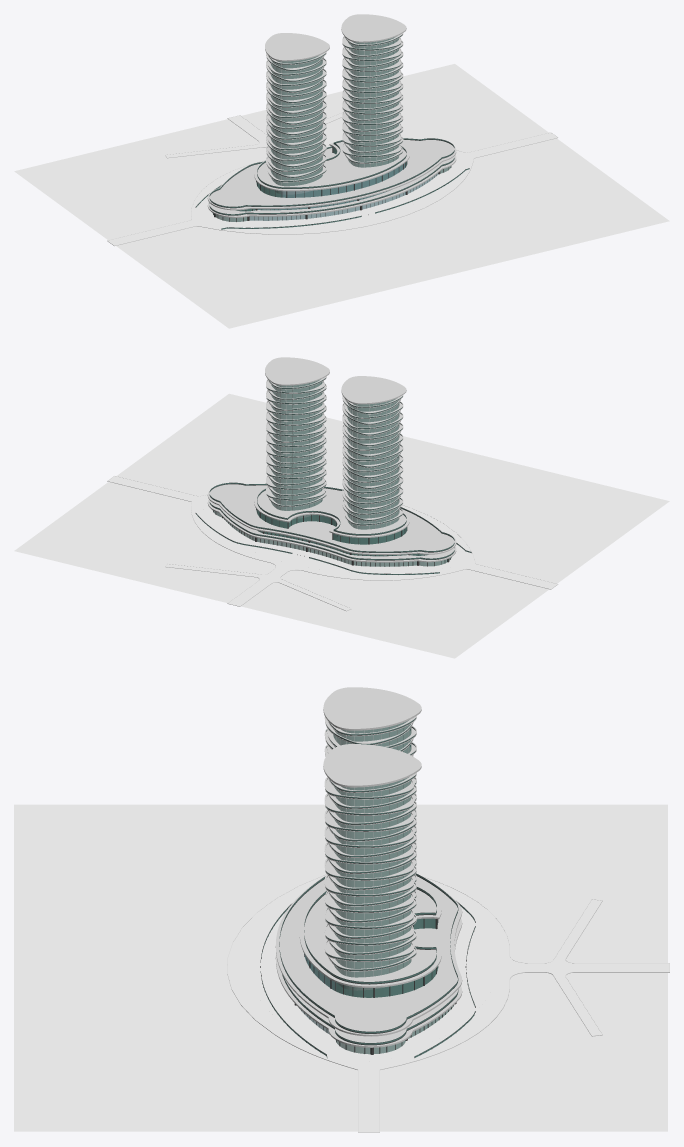
Rendered from building-min01.glb.
3 renders of one model, top to bottom at view 1: azimuth 30°, elevation 25°; view 2: azimuth 150°, elevation 25°; view 3: azimuth 270°, elevation 25°, orthographic. The views are drawn at different scales.
Parts seen in each view (by area): view 1: Plane, 0_curve_.008, 0_curve_.265, 0_curve_.022, 0_curve_.264, 0_curve_.267, 0_curve_.018, 0_curve_.001, 0_curve_.121, 0_curve_.120, 0_curve_.016, 0_curve_.266 (+3 smaller); view 2: Plane, 0_curve_.265, 0_curve_.008, 0_curve_.022, 0_curve_.264, 0_curve_.267, 0_curve_.018, 0_curve_.001, 0_curve_.120, 0_curve_.121, 0_curve_.266, 0_curve_.016 (+3 smaller); view 3: Plane, 0_curve_.265, 0_curve_.008, 0_curve_.264, 0_curve_.267, 0_curve_.018, 0_curve_.120, 0_curve_.121, 0_curve_.001, 0_curve_.266, 0_curve_.016, 0_curve_.214 (+5 smaller).
Part boxes in pixels (x1,y1,x2,y2): Plane: [14, 64, 669, 328]; 0_curve_.008: [207, 139, 456, 210]; 0_curve_.265: [108, 112, 557, 245]; 0_curve_.022: [271, 56, 322, 194]; 0_curve_.264: [348, 37, 398, 167]; 0_curve_.267: [202, 156, 460, 228]; 0_curve_.018: [254, 141, 409, 191]; 0_curve_.001: [207, 155, 456, 217]; 0_curve_.121: [341, 14, 406, 42]; 0_curve_.120: [265, 33, 329, 61]; 0_curve_.016: [256, 147, 406, 197]; 0_curve_.266: [107, 112, 557, 246]; Plane: [14, 393, 669, 658]; 0_curve_.265: [108, 476, 557, 610]; 0_curve_.008: [207, 483, 456, 555]; 0_curve_.022: [347, 398, 399, 529]; 0_curve_.264: [271, 379, 322, 518]; 0_curve_.267: [202, 501, 460, 573]; 0_curve_.018: [254, 488, 409, 537]; 0_curve_.001: [207, 499, 456, 562]; 0_curve_.120: [341, 376, 406, 404]; 0_curve_.121: [265, 357, 329, 385]; 0_curve_.266: [107, 476, 558, 611]; 0_curve_.016: [256, 509, 406, 544]; Plane: [14, 804, 667, 1131]; 0_curve_.265: [227, 874, 669, 1132]; 0_curve_.008: [275, 874, 462, 1036]; 0_curve_.264: [334, 777, 411, 990]; 0_curve_.267: [248, 910, 497, 1061]; 0_curve_.018: [299, 887, 441, 987]; 0_curve_.120: [323, 687, 421, 730]; 0_curve_.121: [323, 744, 421, 787]; 0_curve_.001: [275, 918, 462, 1047]; 0_curve_.266: [227, 874, 669, 1132]; 0_curve_.016: [304, 918, 437, 997]; 0_curve_.214: [336, 777, 408, 977].
Size of the model in its own units: 435 by 143 by 366.
